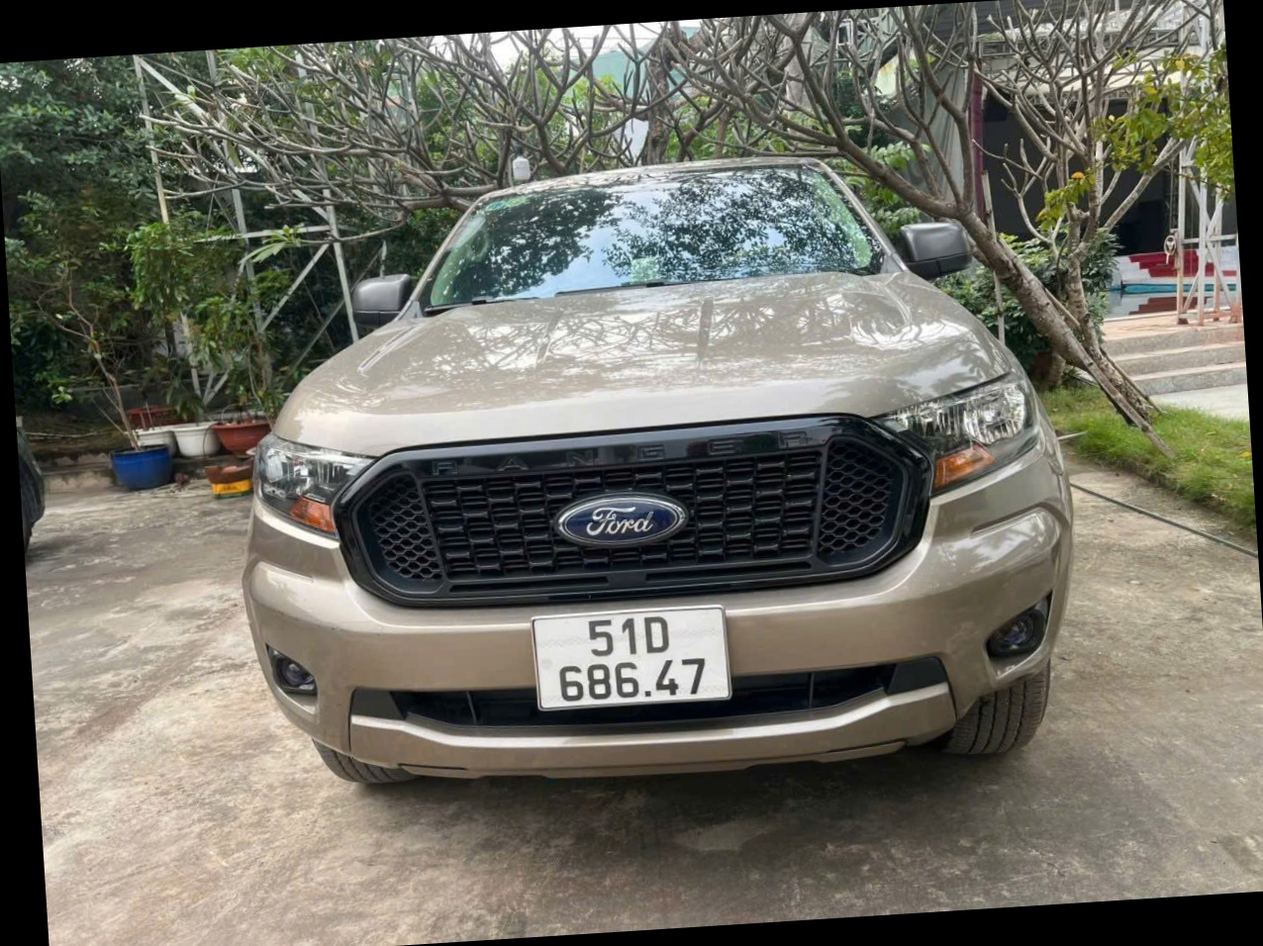Bien-so: (526, 607, 729, 713)
